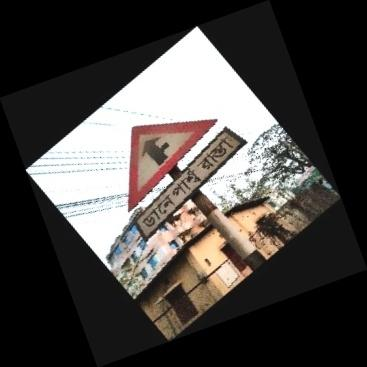Side-road-right: (126, 121, 245, 247)
